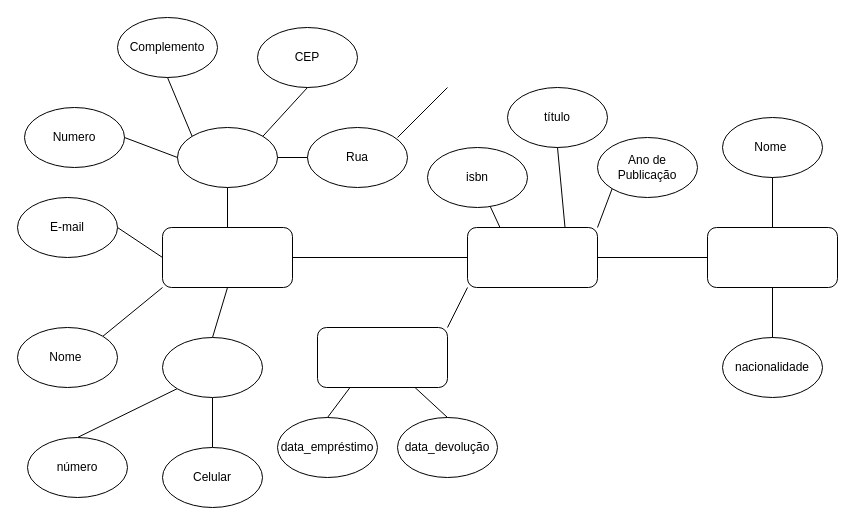
Some shapes in this 855 by 525 pixel diagram are drawn without their labels. Each missing label, with the box of its shape:
Autor: (706, 226, 838, 288)
Empréstimo: (316, 326, 448, 388)
Endereço: (176, 126, 278, 188)
Livro: (466, 226, 598, 288)
Membro: (162, 226, 292, 288)
Telefones: (162, 336, 262, 398)
